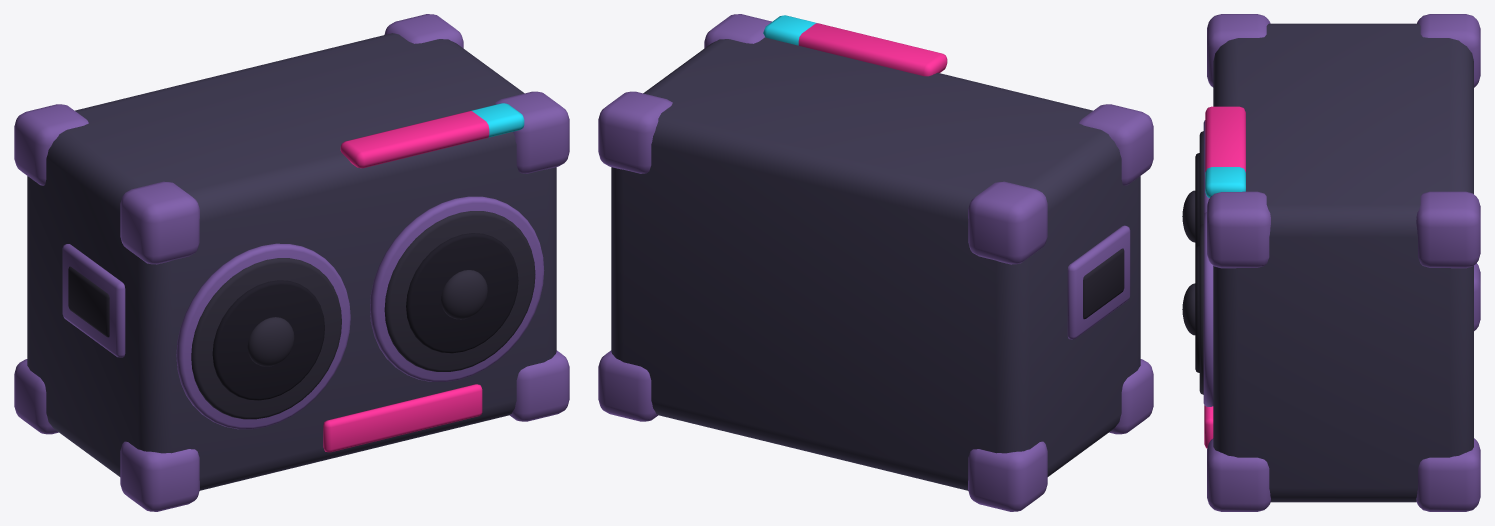
Rendered from Speaker_T2.fbx.
The picture shows the model from 3 angles, left to right: view 1: azimuth 30°, elevation 25°; view 2: azimuth 150°, elevation 25°; view 3: azimuth 270°, elevation 25°; orthographic projection.
Visible parts, largest first — view 1: Body, Purple, Surround, Cone, Neon_Magenta, Dark, Neon_Cyan; view 2: Body, Purple, Neon_Magenta, Dark, Neon_Cyan; view 3: Body, Purple, Neon_Magenta, Surround, Cone, Neon_Cyan.
Part boxes in pixels (bbox=[...]): Body: bbox=[27, 33, 556, 490]; Purple: bbox=[14, 14, 569, 511]; Surround: bbox=[191, 211, 535, 419]; Cone: bbox=[212, 233, 518, 400]; Neon_Magenta: bbox=[323, 111, 489, 452]; Dark: bbox=[68, 266, 109, 337]; Neon_Cyan: bbox=[471, 103, 524, 137]; Body: bbox=[611, 37, 1140, 490]; Purple: bbox=[598, 14, 1153, 511]; Neon_Magenta: bbox=[798, 23, 947, 76]; Dark: bbox=[1083, 248, 1124, 319]; Neon_Cyan: bbox=[763, 15, 817, 45]; Body: bbox=[1213, 23, 1473, 502]; Purple: bbox=[1203, 14, 1480, 511]; Neon_Magenta: bbox=[1204, 106, 1245, 448]; Surround: bbox=[1182, 131, 1203, 394]; Cone: bbox=[1195, 153, 1199, 372]; Neon_Cyan: bbox=[1205, 167, 1245, 197].
Bounding box in the file's own units: 7.21 × 5.02 × 4.39.
